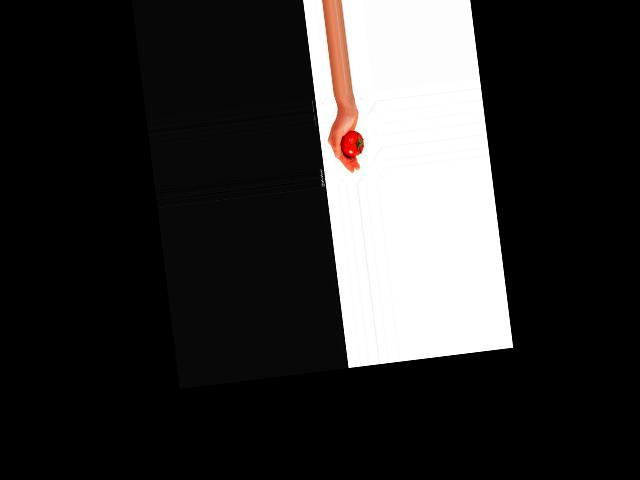tomato: (339, 128, 364, 157)
